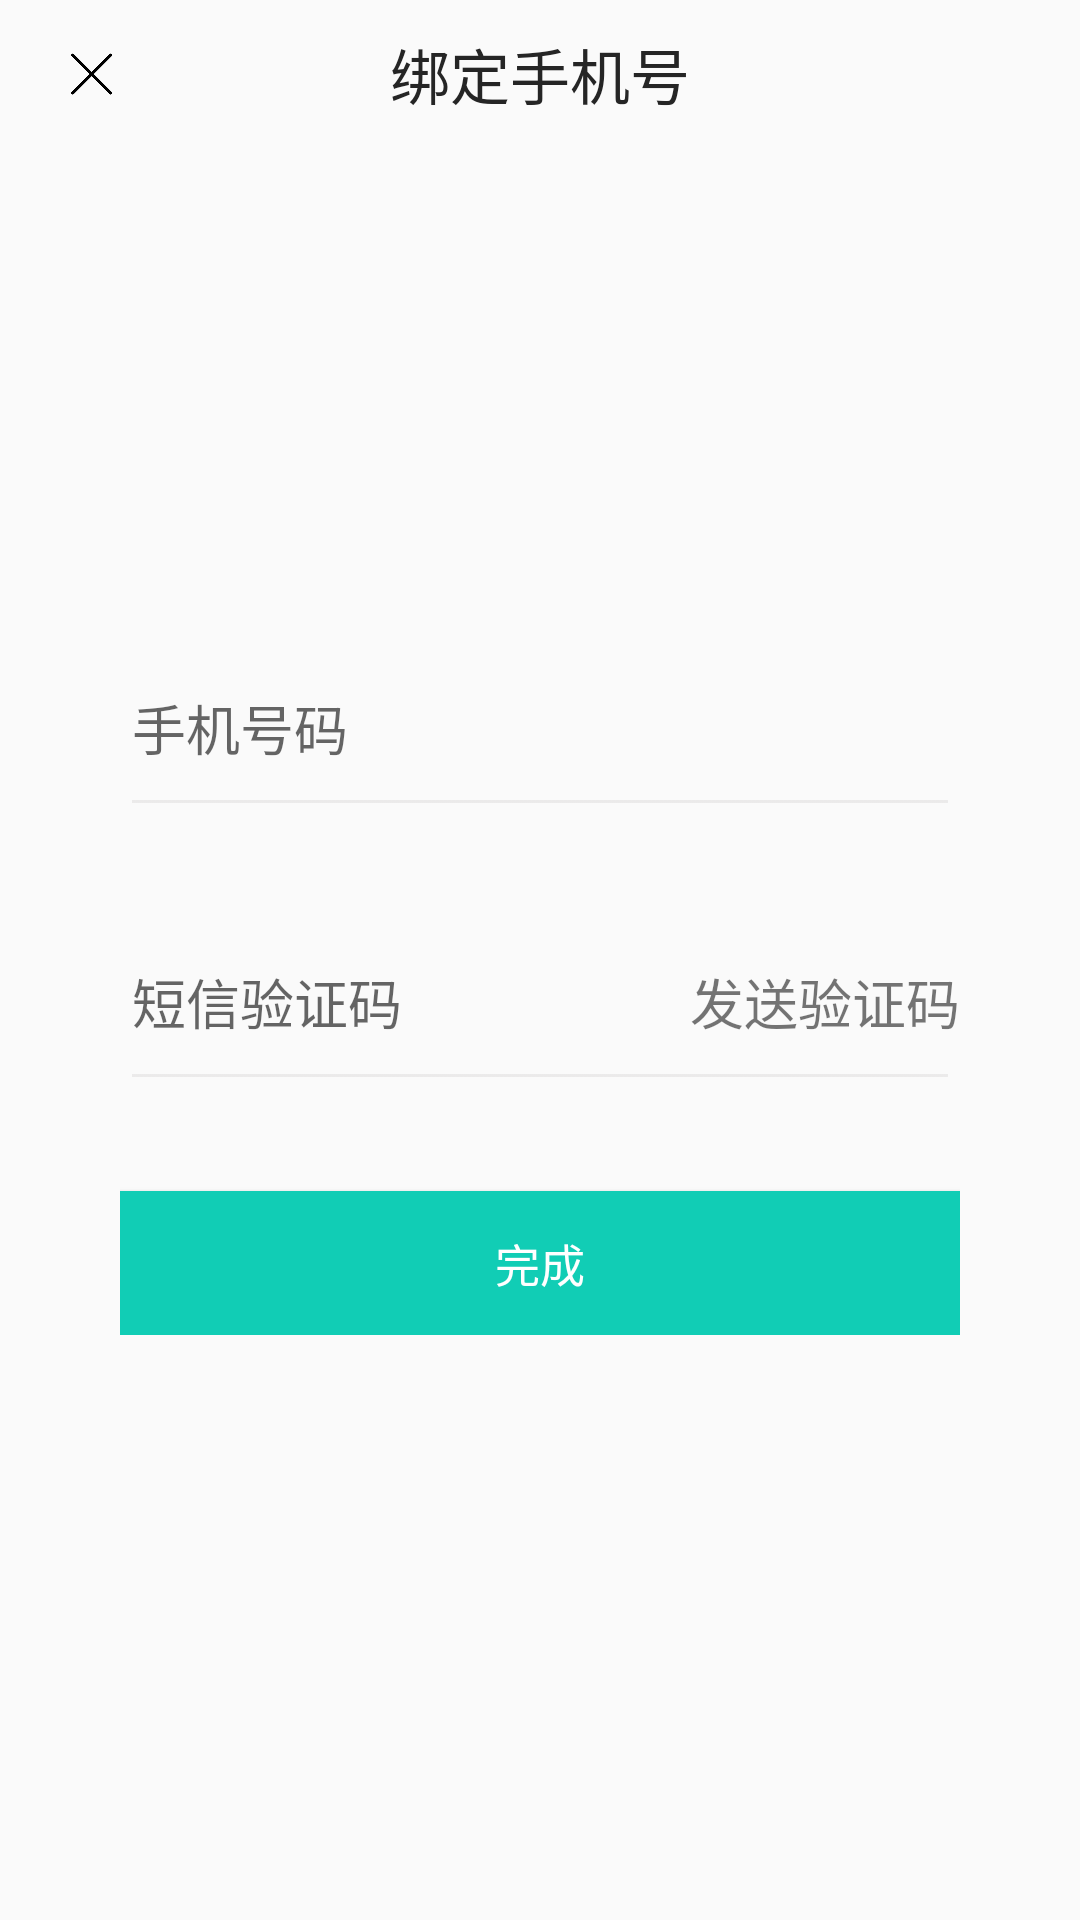

Icon click points for this 1080×1920 phone screenshot, format (x,y):
cancel: (91,74)
